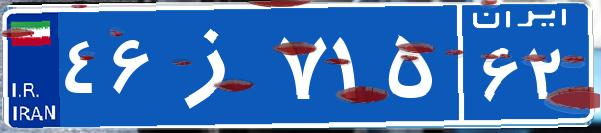1: (330, 28, 385, 110)
2: (525, 38, 570, 115)
4: (57, 26, 110, 107)
5: (385, 28, 445, 110)
6: (475, 38, 525, 113), (110, 28, 158, 105)
7: (273, 28, 330, 110)
ز: (158, 15, 273, 115)
